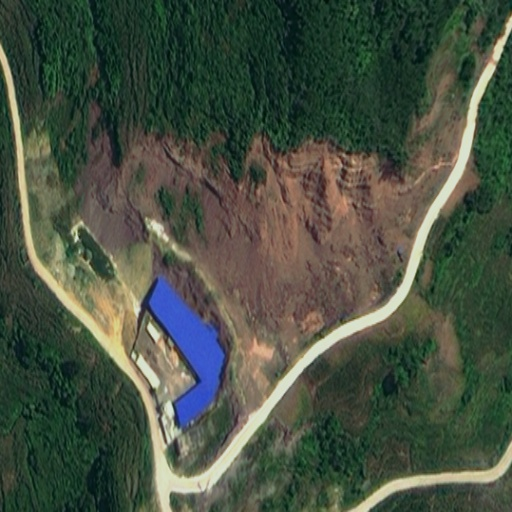landslide: (89, 133, 406, 277)
